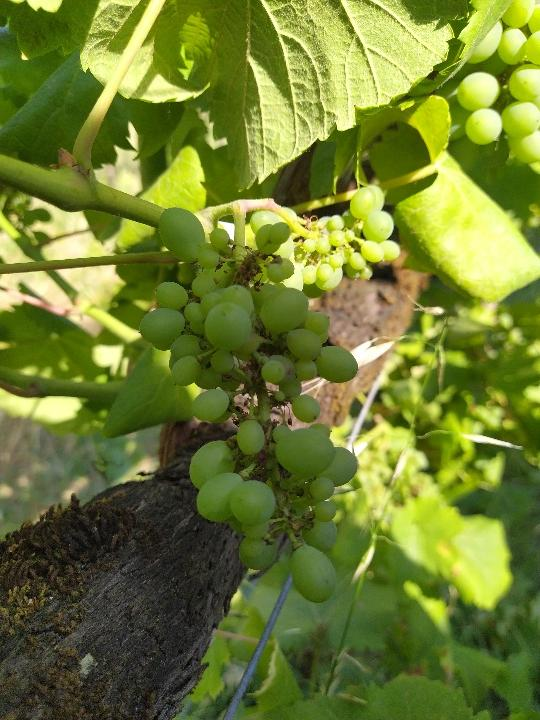grape: (131, 192, 367, 605), (301, 182, 405, 293)
